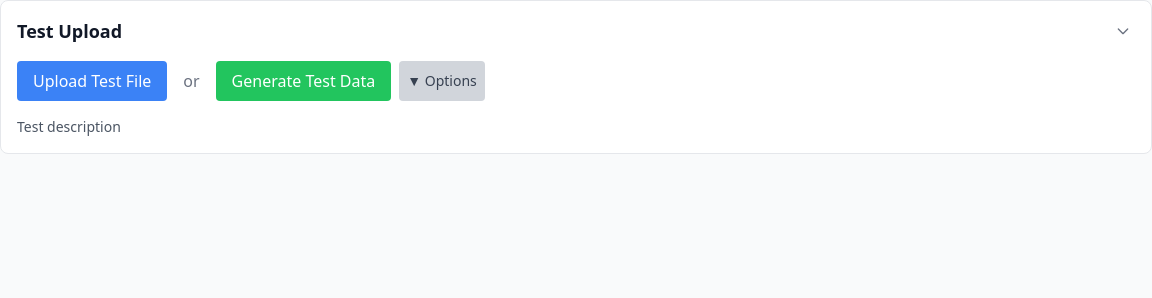
Test: FileUploadBase › shows advanced options when options button is clicked
The image size is (1152, 298).
Step 1. Click the button "▼ Options" → (442,81), box [399, 61, 485, 101]
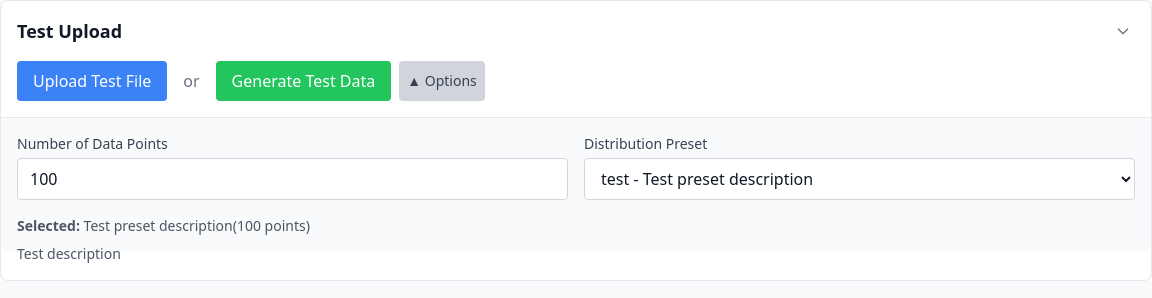
expect the text "Number of Data Points" is shown: met, box [17, 134, 168, 153]
expect the text "Distribution Preset" is shown: met, box [584, 134, 707, 153]
expect the button "▲ Options" is shown: met, box [399, 61, 485, 101]
